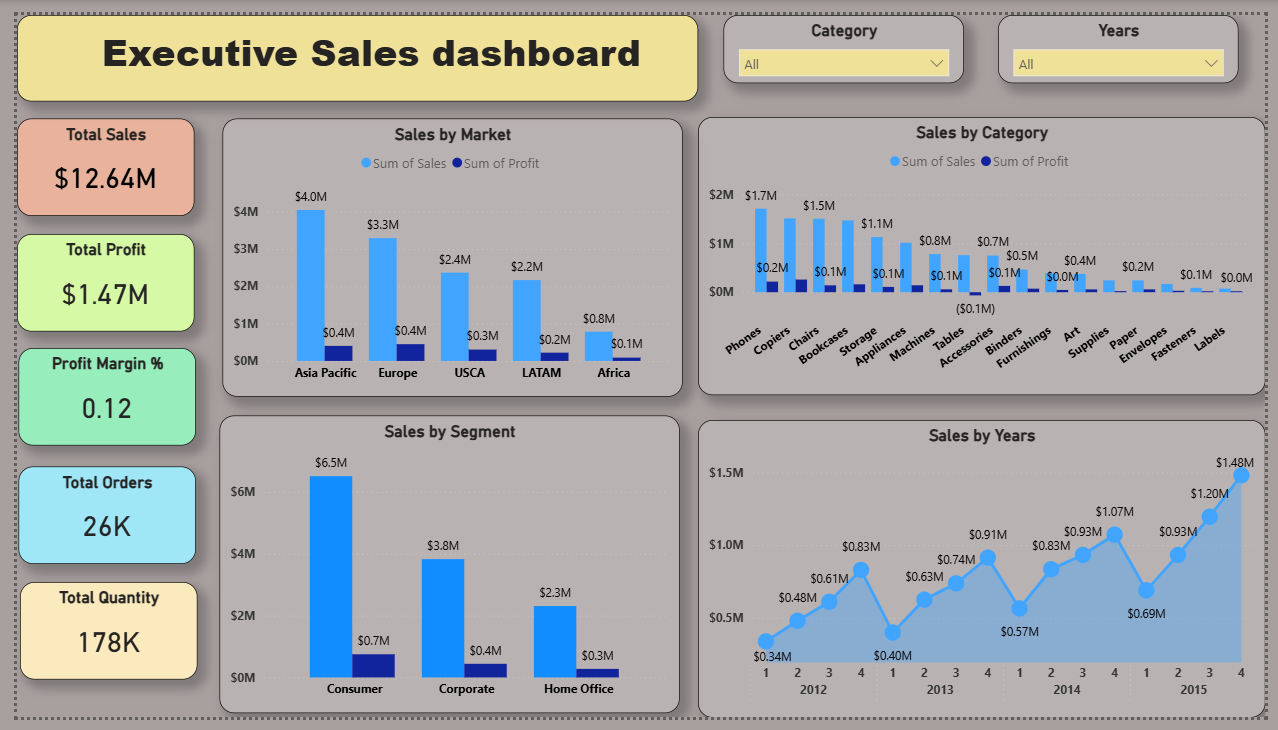

The page's visual inventory and layout, read from the dashboard file:
{"tool":"powerbi","page":{"name":"Executive Sales dashboard","canvas":[1280,720],"ordinal":0},"visuals":[{"type":"card","title":"Total Sales","fields":{"Values":["Sum(Orders.Sales)"]},"box":[0,106.7,181.7,100],"z":0},{"type":"textbox","box":[0,0,698.3,88.3],"z":1000},{"type":"card","title":"Total Orders","fields":{"Values":["Orders.Total Orders"]},"box":[1.7,463.3,181.7,100],"z":2000},{"type":"card","title":"Total Profit","fields":{"Values":["Sum(Orders.Profit)"]},"box":[0,225,181.7,100],"z":3000},{"type":"card","title":"Profit Margin %","fields":{"Values":["Orders.Profit Margin %"]},"box":[1.7,341.7,181.7,100],"z":4000},{"type":"card","title":"Total Quantity","fields":{"Values":["Orders.Total Quantity"]},"box":[3.3,581.7,181.7,100],"z":5000},{"type":"lineChart","title":"Sales by Years","fields":{"Y":["Sum(Orders.Sales)"],"Category":["Orders.Order Year","Orders.Order Quarter"]},"box":[698.3,415,581.7,305],"z":6000},{"type":"clusteredColumnChart","title":"Sales by Category","fields":{"Y":["Sum(Orders.Sales)","Sum(Orders.Profit)"],"Category":["Orders.Sub-Category"]},"box":[698.3,105,581.7,285],"z":7000},{"type":"clusteredColumnChart","title":"Sales by Segment","fields":{"Category":["Orders.Segment"],"Y":["Sum(Orders.Sales)","Sum(Orders.Profit)"]},"box":[208.3,410,471.7,305],"z":8000},{"type":"clusteredColumnChart","title":"Sales by Market","fields":{"Y":["Sum(Orders.Sales)","Sum(Orders.Profit)"],"Category":["Orders.Market"]},"box":[210,106.7,471.7,285],"z":9000},{"type":"slicer","title":"Years","fields":{"Values":["Orders.Order Date.Variation.Date Hierarchy.Year"]},"box":[1006.7,0,246.7,70],"z":10000},{"type":"slicer","title":"Category","fields":{"Values":["Orders.Category"]},"box":[725,0,246.7,70],"z":11000}]}

Visuals, with their boxes in screenshot pixels (x1, y1, x2, y2), scaled from the page's 1280x720 canvas onto the 1278x730 screenshot:
"Total Sales" card: BBox(0, 108, 181, 210)
textbox: BBox(0, 0, 697, 90)
"Total Orders" card: BBox(2, 470, 183, 571)
"Total Profit" card: BBox(0, 228, 181, 330)
"Profit Margin %" card: BBox(2, 346, 183, 448)
"Total Quantity" card: BBox(3, 590, 185, 691)
"Sales by Years" lineChart: BBox(697, 421, 1277, 729)
"Sales by Category" clusteredColumnChart: BBox(697, 106, 1277, 395)
"Sales by Segment" clusteredColumnChart: BBox(208, 416, 679, 725)
"Sales by Market" clusteredColumnChart: BBox(210, 108, 681, 397)
"Years" slicer: BBox(1005, 0, 1251, 71)
"Category" slicer: BBox(724, 0, 970, 71)
